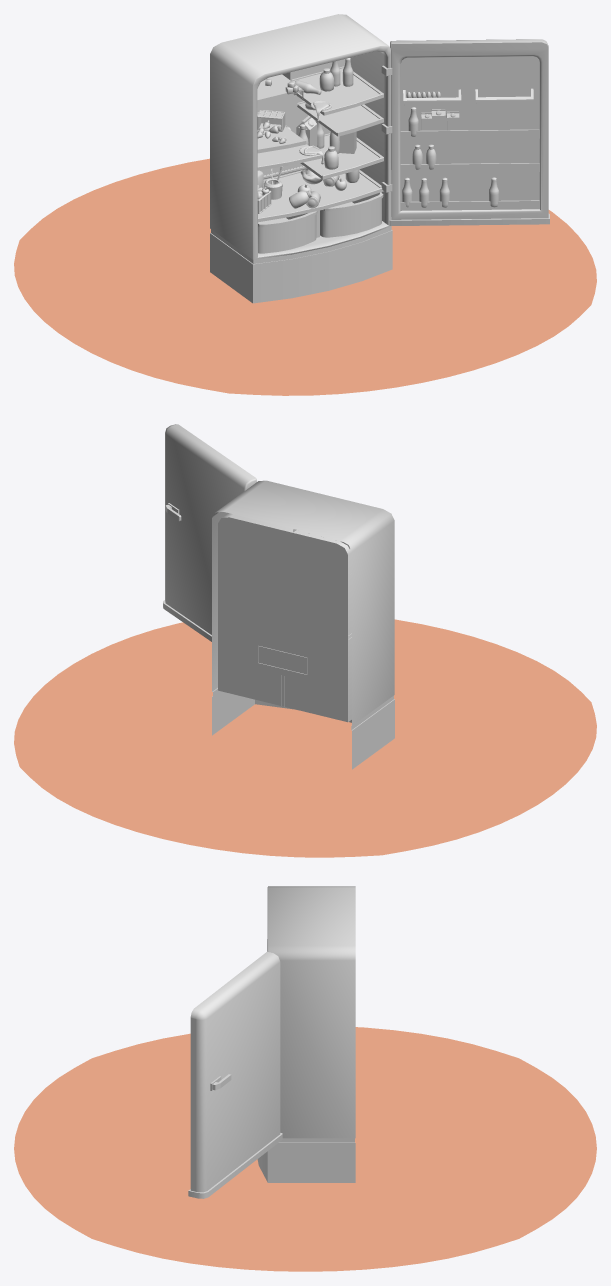
The model's file is EscenarioNevera_02.fbx.
3 renders of one model, top to bottom at view 1: azimuth 30°, elevation 25°; view 2: azimuth 150°, elevation 25°; view 3: azimuth 270°, elevation 25°, orthographic. The views are drawn at different scales.
Parts seen in each view (by area): view 1: Suelo, Nevera, Puerta.001, gabinete, Plataforma1, Puerta.004, Puerta.006, Puerta.005, Congelador, Plataforma04.001, Puerta.002, Puerta.003 (+2 smaller); view 2: Suelo, Nevera, Puerta.001; view 3: Suelo, Nevera, Puerta.001.
Part boxes in pixels (left/top/right/bottom): Suelo: left=14, top=158, right=596, bottom=395; Nevera: left=210, top=14, right=392, bottom=303; Puerta.001: left=389, top=39, right=549, bottom=225; gabinete: left=258, top=192, right=383, bottom=253; Plataforma1: left=258, top=169, right=383, bottom=222; Puerta.004: left=400, top=129, right=539, bottom=140; Puerta.006: left=400, top=163, right=539, bottom=173; Puerta.005: left=400, top=200, right=539, bottom=210; Congelador: left=257, top=72, right=303, bottom=101; Plataforma04.001: left=297, top=101, right=354, bottom=136; Puerta.002: left=403, top=89, right=461, bottom=107; Puerta.003: left=475, top=88, right=533, bottom=106; Suelo: left=14, top=619, right=596, bottom=857; Nevera: left=212, top=480, right=394, bottom=769; Puerta.001: left=163, top=424, right=256, bottom=641; Suelo: left=14, top=1027, right=596, bottom=1271; Nevera: left=257, top=886, right=355, bottom=1182; Puerta.001: left=188, top=951, right=282, bottom=1198.
Bounding box in the file's own units: 7736 × 3387 × 7736.
